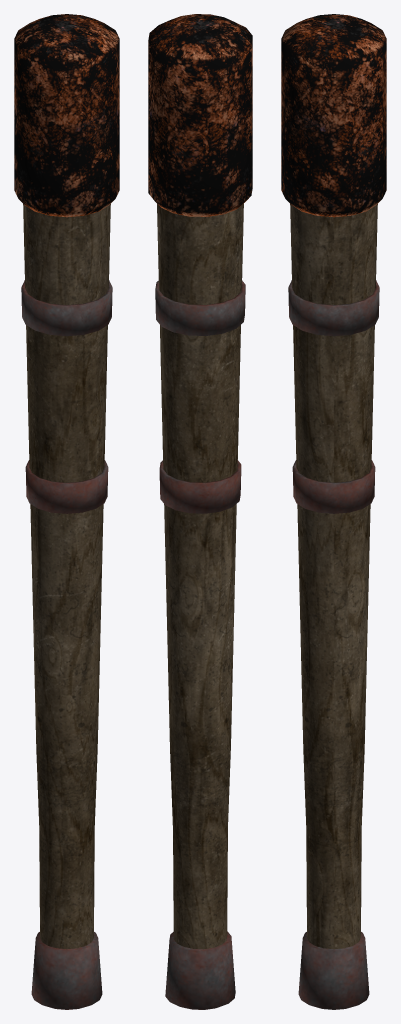
The model's file is torch_simple.glb.
3 renders of one model, left to right at view 1: azimuth 90°, elevation 25°; view 2: azimuth 210°, elevation 25°; view 3: azimuth 270°, elevation 25°, orthographic.
Parts seen in each view (by area): view 1: torch; view 2: torch; view 3: torch.
Part boxes in pixels (box(x1,y1,x2,y2)): torch: box(14, 14, 119, 1009); torch: box(148, 14, 252, 1009); torch: box(281, 14, 386, 1009).
Size of the model in its own units: 0.154 by 1.57 by 0.154.
Materials: 1 (1 with a texture image).
